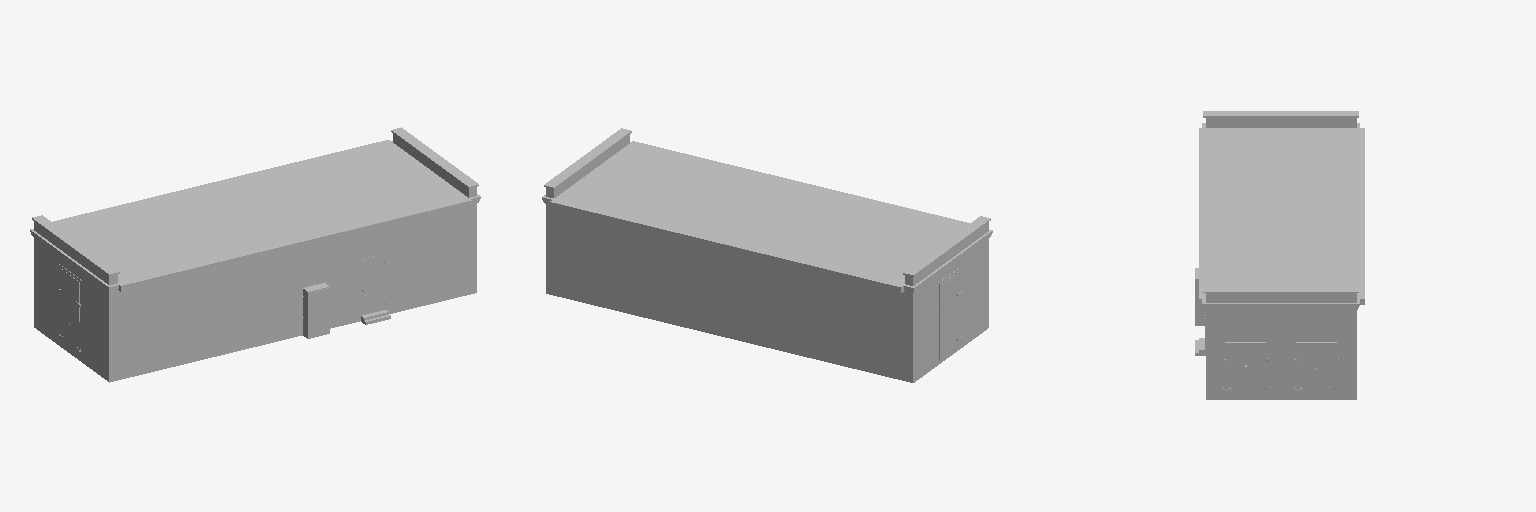
File: electric.obj
The picture shows the model from 3 angles: view 1: azimuth 30°, elevation 25°; view 2: azimuth 150°, elevation 25°; view 3: azimuth 270°, elevation 25°; orthographic projection.
Parts seen in each view (by area): view 1: Куб_Куб.001; view 2: Куб_Куб.001; view 3: Куб_Куб.001.
Part boxes in pixels (x1,y1,x2,y2): Куб_Куб.001: (30, 127, 480, 382); Куб_Куб.001: (542, 128, 992, 382); Куб_Куб.001: (1195, 111, 1364, 399).
Bounding box in the file's own units: 11.8 × 3.3 × 4.68.